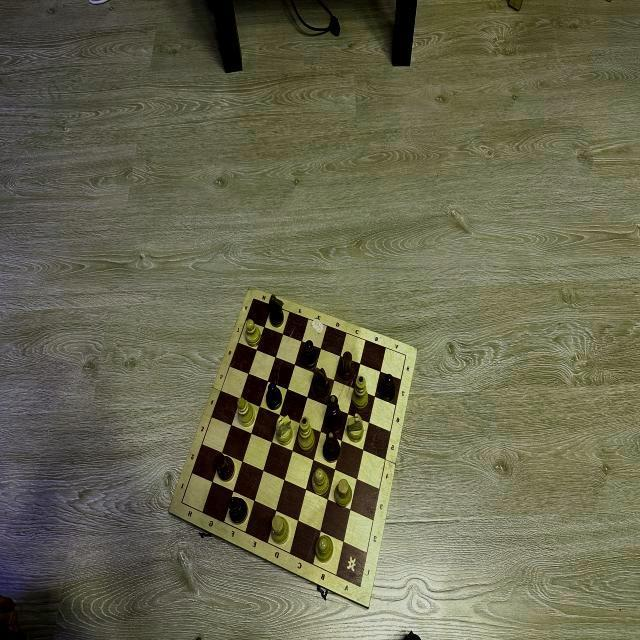chess-table-corners: (357, 582, 363, 590), (179, 500, 184, 506), (404, 352, 408, 358), (252, 297, 255, 301)
